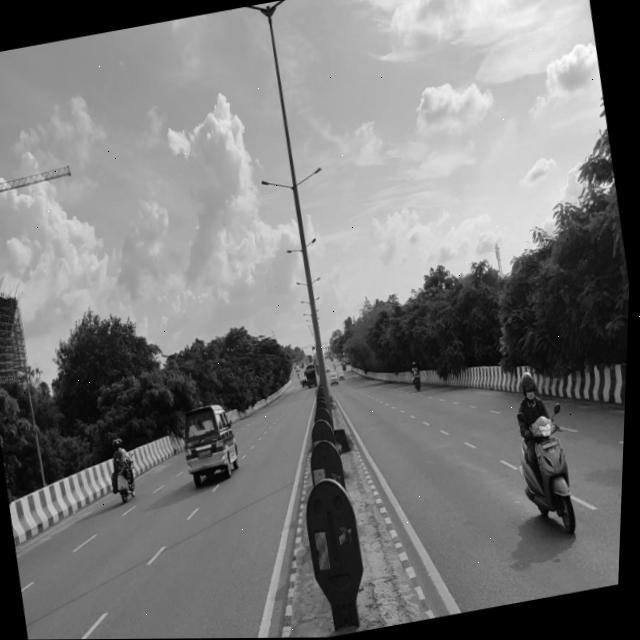bike: (504, 365, 590, 545), (102, 405, 151, 528)
car: (179, 390, 249, 491)
